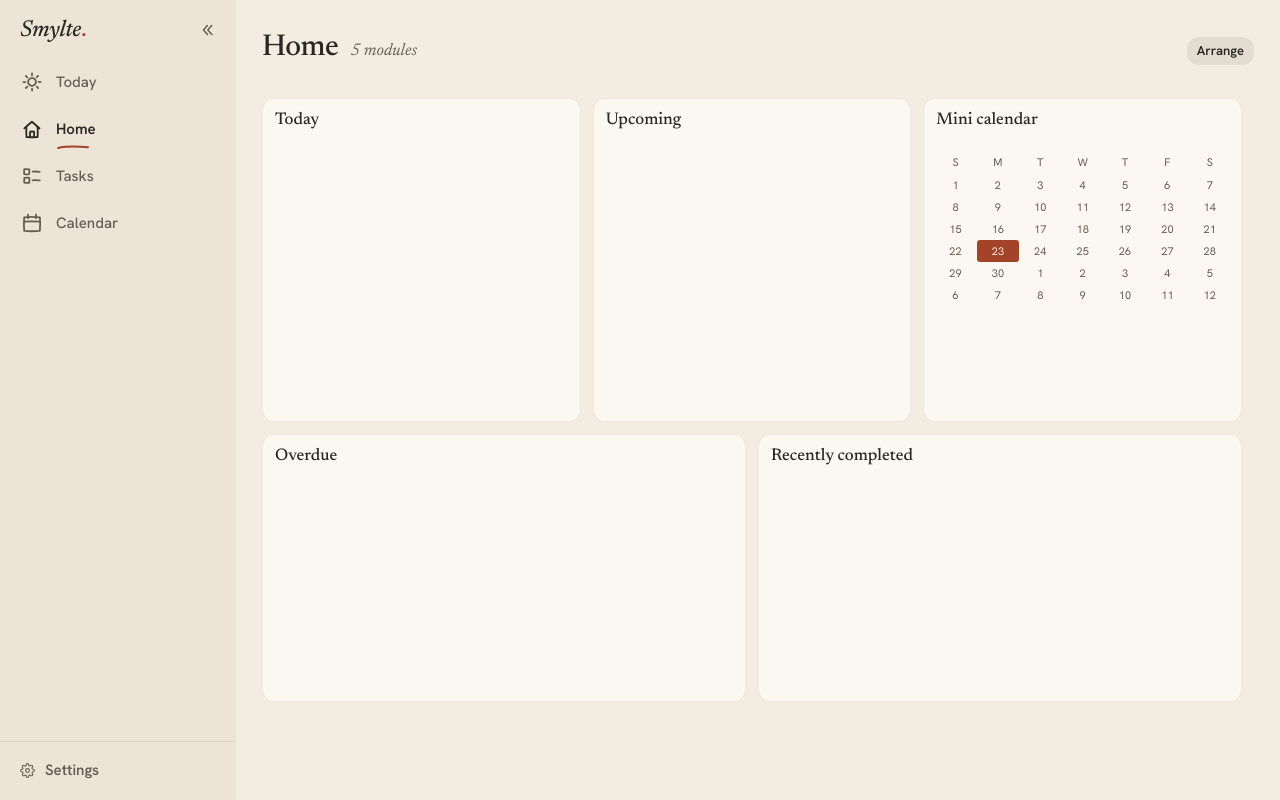
Test: the sidebar layout › puts the quick add at the foot of the list, after the rows it adds to
Click the button "Tasks".
click(118, 177)  # box [8,154,228,200]
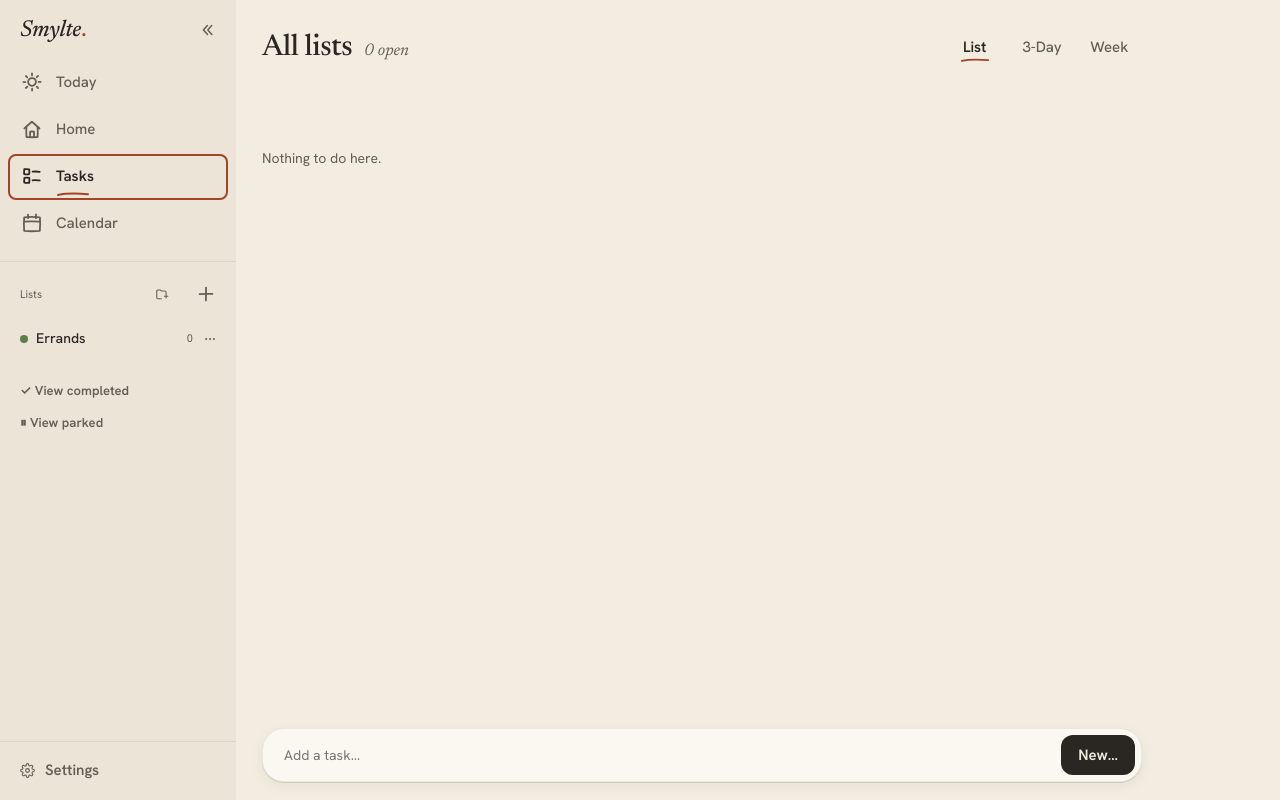
Check: the element showing "New…" is shown, box [262,728,1142,782]
